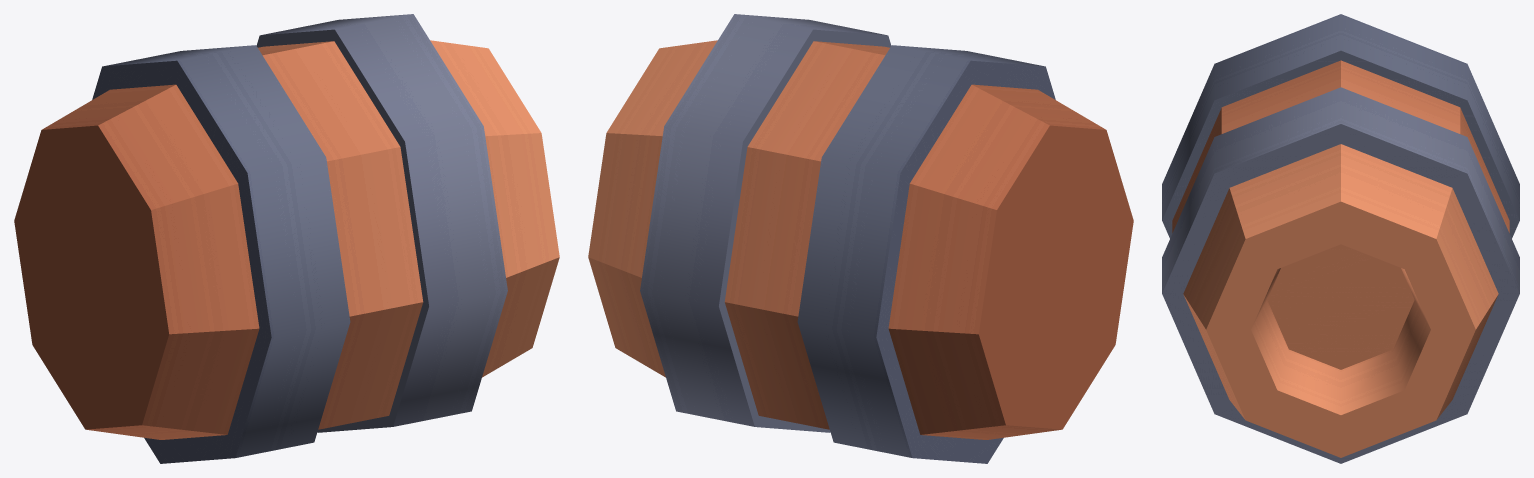
The model's file is barrel.008_lev2.glb.
The picture shows the model from 3 angles, left to right: view 1: azimuth 30°, elevation 25°; view 2: azimuth 150°, elevation 25°; view 3: azimuth 270°, elevation 25°; orthographic projection. The views are drawn at different scales.
Parts seen in each view (by area): view 1: barrel.008_lev2; view 2: barrel.008_lev2; view 3: barrel.008_lev2.
Boxes of the visible parts, x1,y1,x2,y2 form: barrel.008_lev2: [14, 14, 559, 463]; barrel.008_lev2: [588, 14, 1133, 463]; barrel.008_lev2: [1162, 14, 1519, 463].
Bounding box in the file's own units: 1.78 × 1.73 × 1.57.
Materials: 1 (1 with a texture image).
